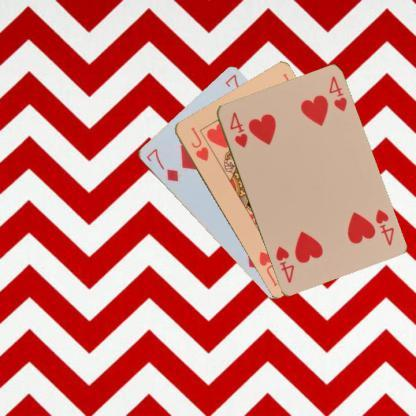4h: (372, 206, 396, 247), (226, 109, 249, 149)
7d: (142, 146, 180, 183)
Jh: (187, 124, 210, 162)
